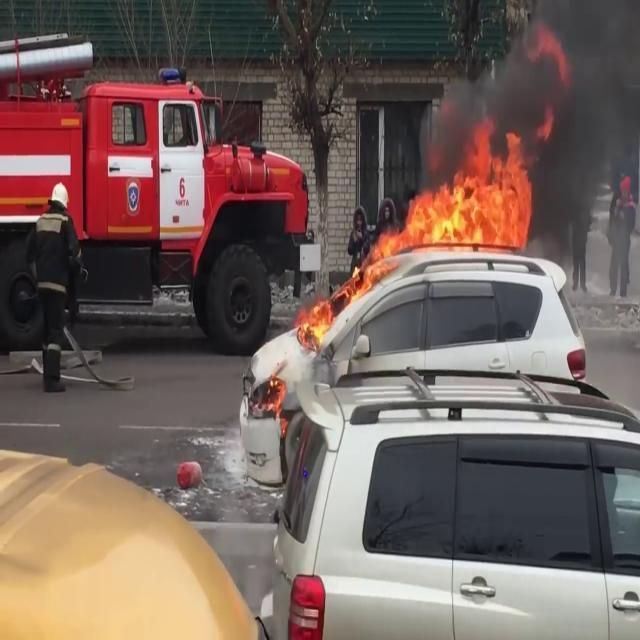Fire: (376, 126, 538, 260), (296, 296, 336, 351), (266, 371, 290, 425)
Smoke: (480, 2, 640, 255)
